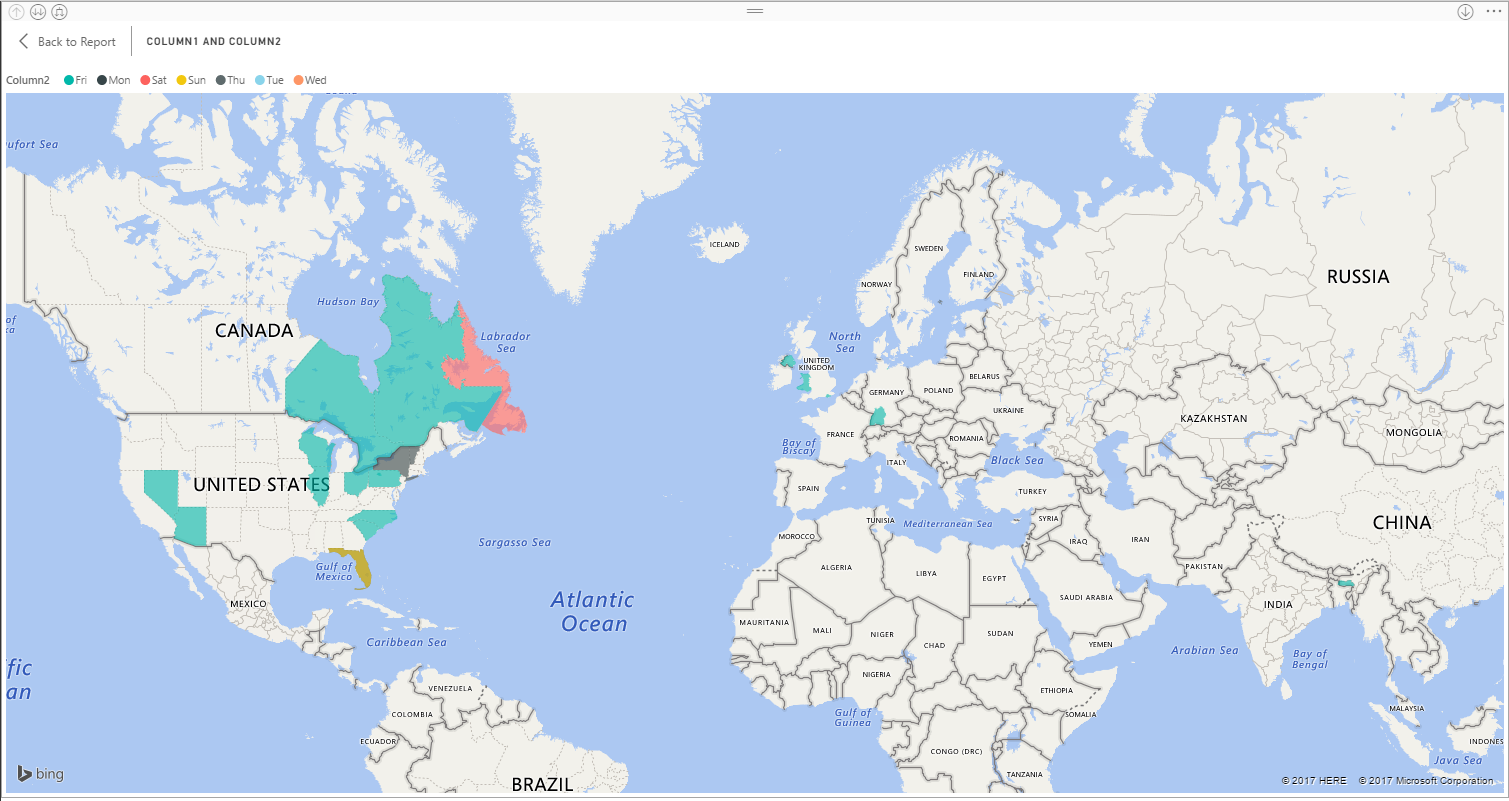

The page's visual inventory and layout, read from the dashboard file:
{"tool":"powerbi","page":{"name":"Page 1","canvas":[1280,720],"ordinal":0},"visuals":[{"type":"map","fields":{"Category":["AverageByState.Column1"],"Size":["Sum(AverageByState.Column2)"]},"box":[18.6,20.2,280.9,279.3],"z":1}]}

Visuals, with their boxes on the page's 1280x720 design canvas (x1, y1, x2, y2). These are canvas units, not pixel positions in the 1509x801 screenshot, which may show the page scaled, cropped or inside an application window:
map - AverageByState.Column1 x Sum(AverageByState.Column2): select_region(19, 20, 300, 300)
